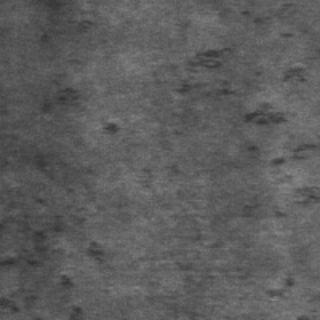rolled pit: (238, 40, 318, 204), (0, 206, 106, 312), (170, 38, 237, 112)
